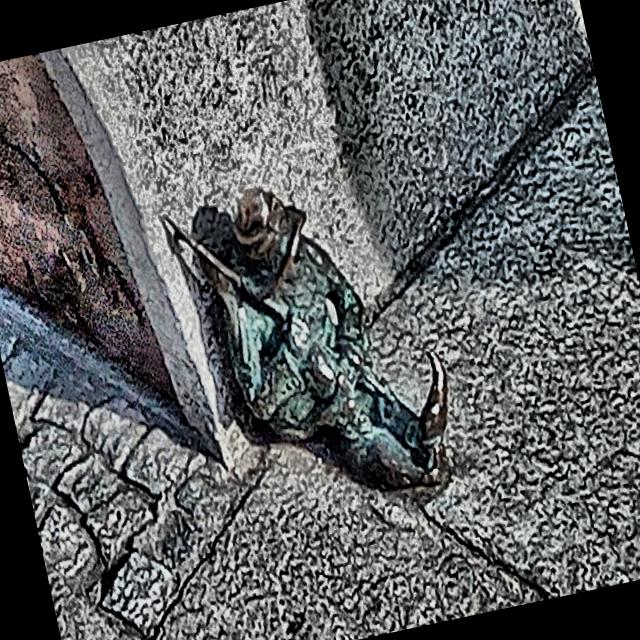Spioch: (169, 186, 446, 488)
